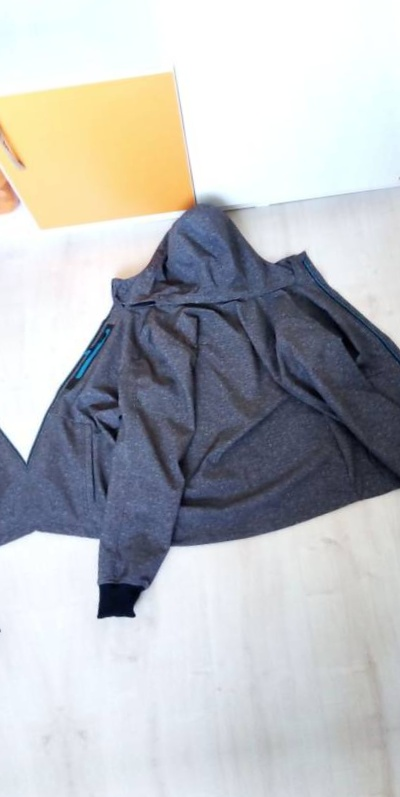Hoodie: (0, 147, 400, 654), (0, 203, 46, 711)
